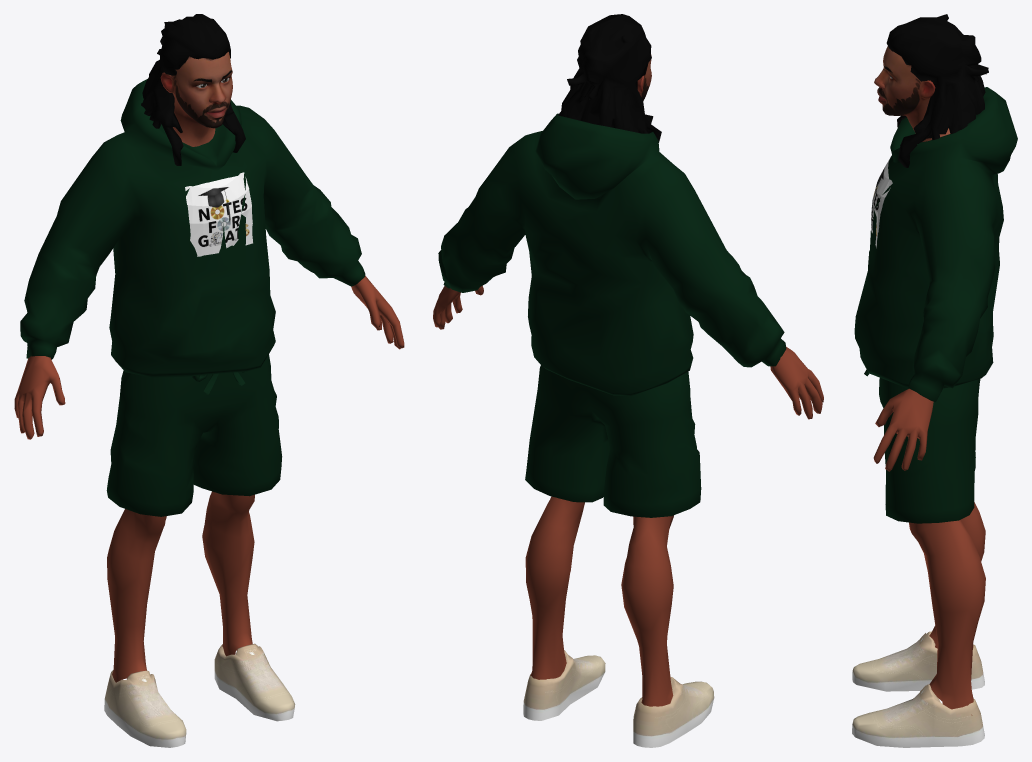
The model's file is mentor.glb.
3 views of the same model, side by side, from view 1: azimuth 30°, elevation 25°; view 2: azimuth 150°, elevation 25°; view 3: azimuth 270°, elevation 25° (orthographic).
Visible parts, largest first — view 1: Outfit_Top.003, Outfit_Bottom.003, Body.003, Outfit_Footwear.001, Hair.003, Head.003, SECTION 0 - NFG FINAL LOGO DRAFT 1.003; view 2: Outfit_Top.003, Outfit_Bottom.003, Body.003, Hair.003, Outfit_Footwear.001; view 3: Outfit_Top.003, Body.003, Outfit_Bottom.003, Outfit_Footwear.001, Hair.003, Head.003, SECTION 0 - NFG FINAL LOGO DRAFT 1.003.
Part boxes in pixels (left/top/right/bottom): Outfit_Top.003: left=20, top=79, right=365, bottom=377; Outfit_Bottom.003: left=106, top=354, right=282, bottom=516; Body.003: left=14, top=275, right=404, bottom=682; Outfit_Footwear.001: left=104, top=643, right=295, bottom=747; Hair.003: left=141, top=14, right=245, bottom=165; Head.003: left=160, top=52, right=232, bottom=146; SECTION 0 - NFG FINAL LOGO DRAFT 1.003: left=185, top=172, right=252, bottom=256; Outfit_Top.003: left=438, top=113, right=786, bottom=396; Outfit_Bottom.003: left=525, top=365, right=701, bottom=517; Body.003: left=433, top=286, right=823, bottom=706; Hair.003: left=558, top=14, right=661, bottom=142; Outfit_Footwear.001: left=523, top=650, right=714, bottom=747; Outfit_Top.003: left=854, top=87, right=1017, bottom=402; Body.003: left=873, top=388, right=985, bottom=715; Outfit_Bottom.003: left=864, top=369, right=980, bottom=523; Outfit_Footwear.001: left=852, top=631, right=984, bottom=747; Hair.003: left=886, top=14, right=988, bottom=167; Head.003: left=874, top=46, right=950, bottom=141; SECTION 0 - NFG FINAL LOGO DRAFT 1.003: left=871, top=158, right=892, bottom=248.
Bounding box in the file's own units: 1.1 × 1.93 × 0.4198.
Materials: 9 (7 with a texture image).
